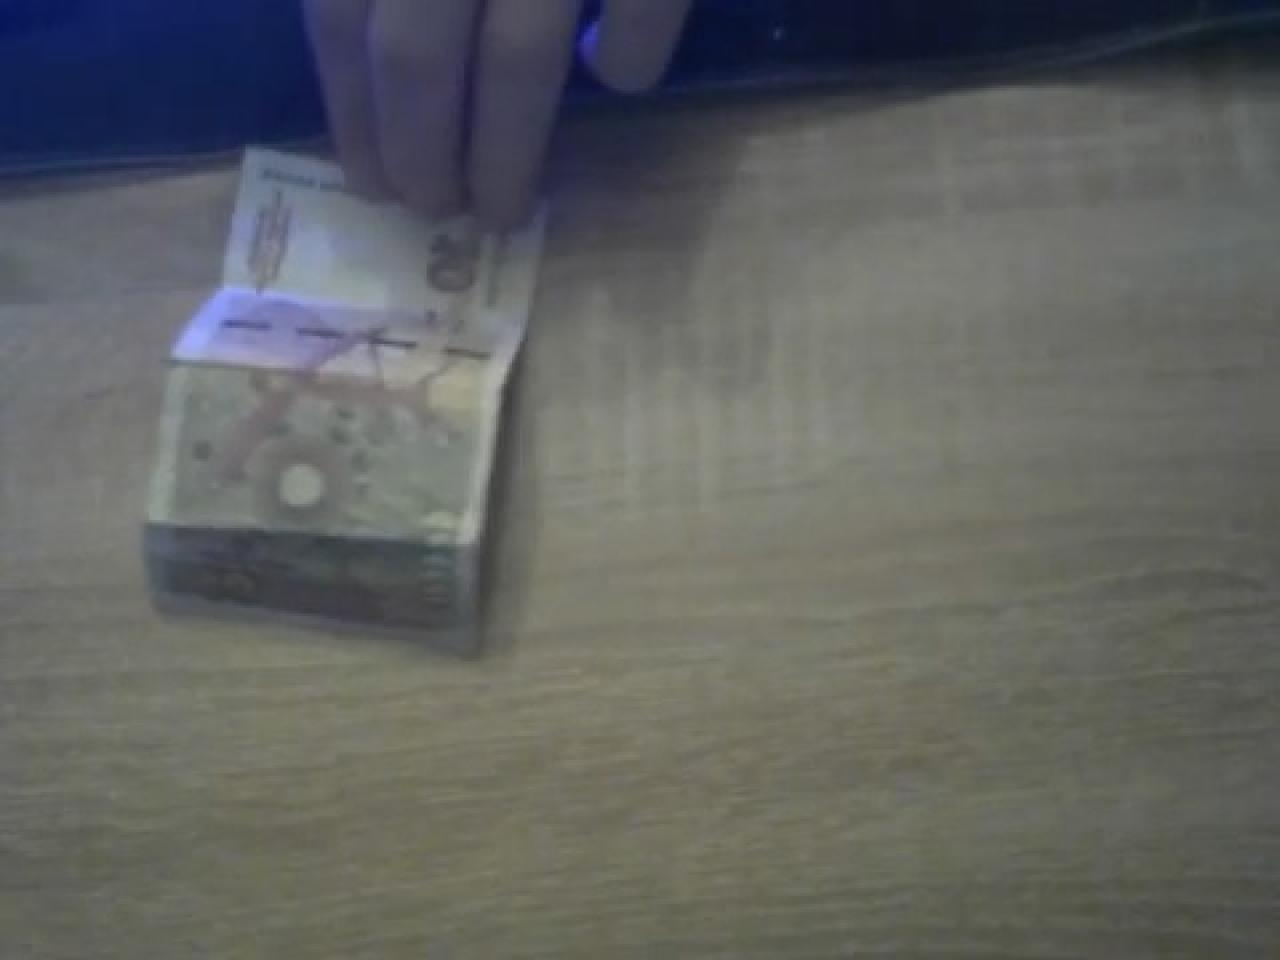10leva: (141, 155, 539, 661)
